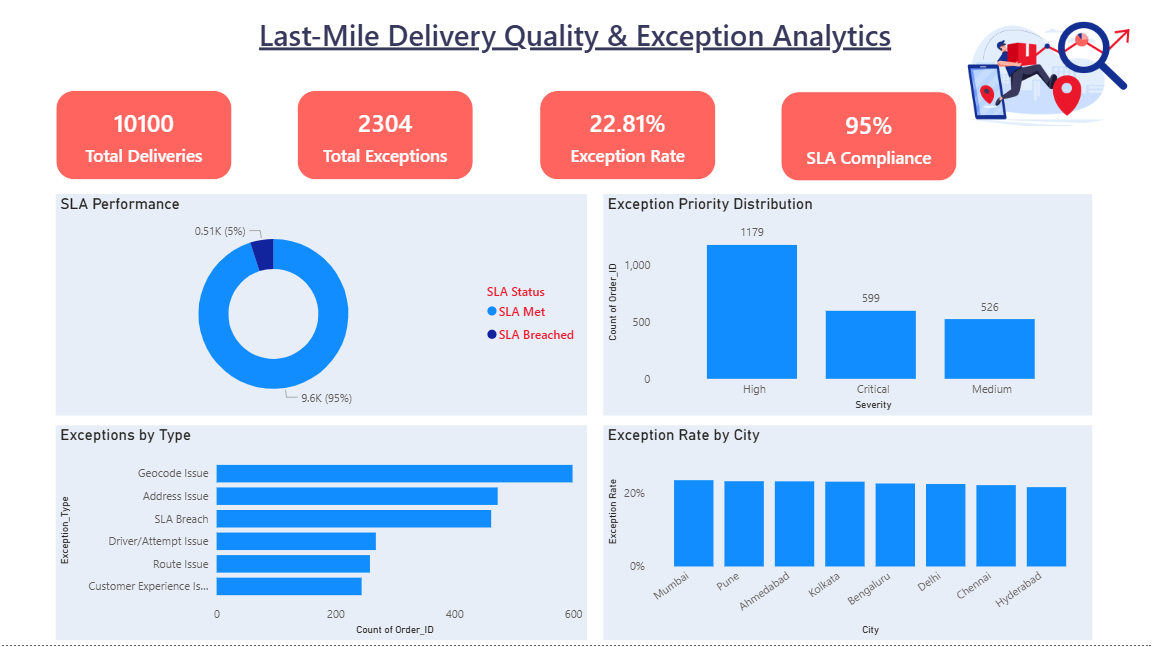

The page's visual inventory and layout, read from the dashboard file:
{"tool":"powerbi","page":{"name":"Quality Control Tower","canvas":[1280,720],"ordinal":0},"visuals":[{"type":"card","fields":{"Values":["quality_audit_results.Total Deliveries"]},"box":[70,111.1,193.5,98.8],"z":2},{"type":"card","fields":{"Values":["quality_audit_results.Total Exceptions"]},"box":[335.3,111.1,193.5,98.8],"z":3},{"type":"card","fields":{"Values":["quality_audit_results.Exception Rate"]},"box":[600.6,111.1,193.5,98.8],"z":4},{"type":"card","fields":{"Values":["quality_audit_results.SLA Compliance"]},"box":[865.9,112.5,193.5,98.8],"z":5},{"type":"clusteredBarChart","title":"Exceptions by Type","fields":{"Category":["quality_audit_results.Exception_Type"],"Y":["CountNonNull(quality_audit_results.Order_ID)"]},"box":[70,478.9,583.2,236],"z":6},{"type":"clusteredColumnChart","fields":{"Category":["quality_audit_results.City"],"Y":["quality_audit_results.Exception Rate"]},"box":[671,478.9,536.5,236],"z":7},{"type":"donutChart","title":"SLA Performance","fields":{"Category":["quality_audit_results.SLA Status"],"Y":["CountNonNull(quality_audit_results.Order_ID)"]},"box":[70,225,583.2,242.9],"z":8},{"type":"clusteredColumnChart","title":"Exception Priority Distribution","fields":{"Category":["quality_audit_results.Severity"],"Y":["CountNonNull(quality_audit_results.Order_ID)"]},"box":[671,225,536.5,242.9],"z":9},{"type":"textbox","box":[272.9,23.3,734.1,87.8],"z":10},{"type":"image","box":[1059.4,19.2,203.1,142.7],"z":11}]}

Visuals, with their boxes in screenshot pixels (x1, y1, x2, y2), scaled from the page's 1280x720 canvas onto the 1152x647 screenshot:
card - quality_audit_results.Total Deliveries: locate(63, 100, 237, 189)
card - quality_audit_results.Total Exceptions: locate(302, 100, 476, 189)
card - quality_audit_results.Exception Rate: locate(541, 100, 715, 189)
card - quality_audit_results.SLA Compliance: locate(779, 101, 953, 190)
"Exceptions by Type" clusteredBarChart: locate(63, 430, 588, 642)
clusteredColumnChart - quality_audit_results.City x quality_audit_results.Exception Rate: locate(604, 430, 1087, 642)
"SLA Performance" donutChart: locate(63, 202, 588, 420)
"Exception Priority Distribution" clusteredColumnChart: locate(604, 202, 1087, 420)
textbox: locate(246, 21, 906, 100)
image: locate(953, 17, 1136, 145)
